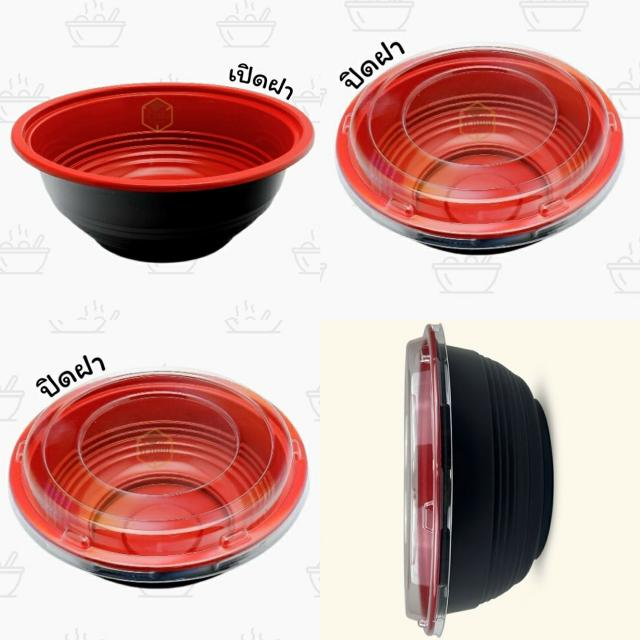Single-Use-Plastic: (10, 371, 308, 583), (338, 48, 622, 248), (11, 82, 314, 262), (405, 325, 554, 636)
